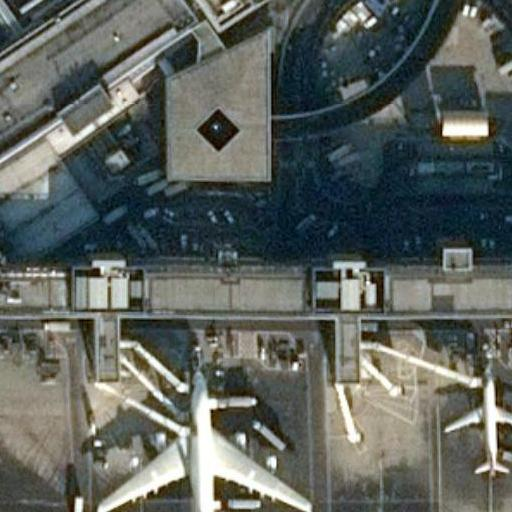Aircraft: (91, 364, 310, 512), (440, 366, 512, 479)
